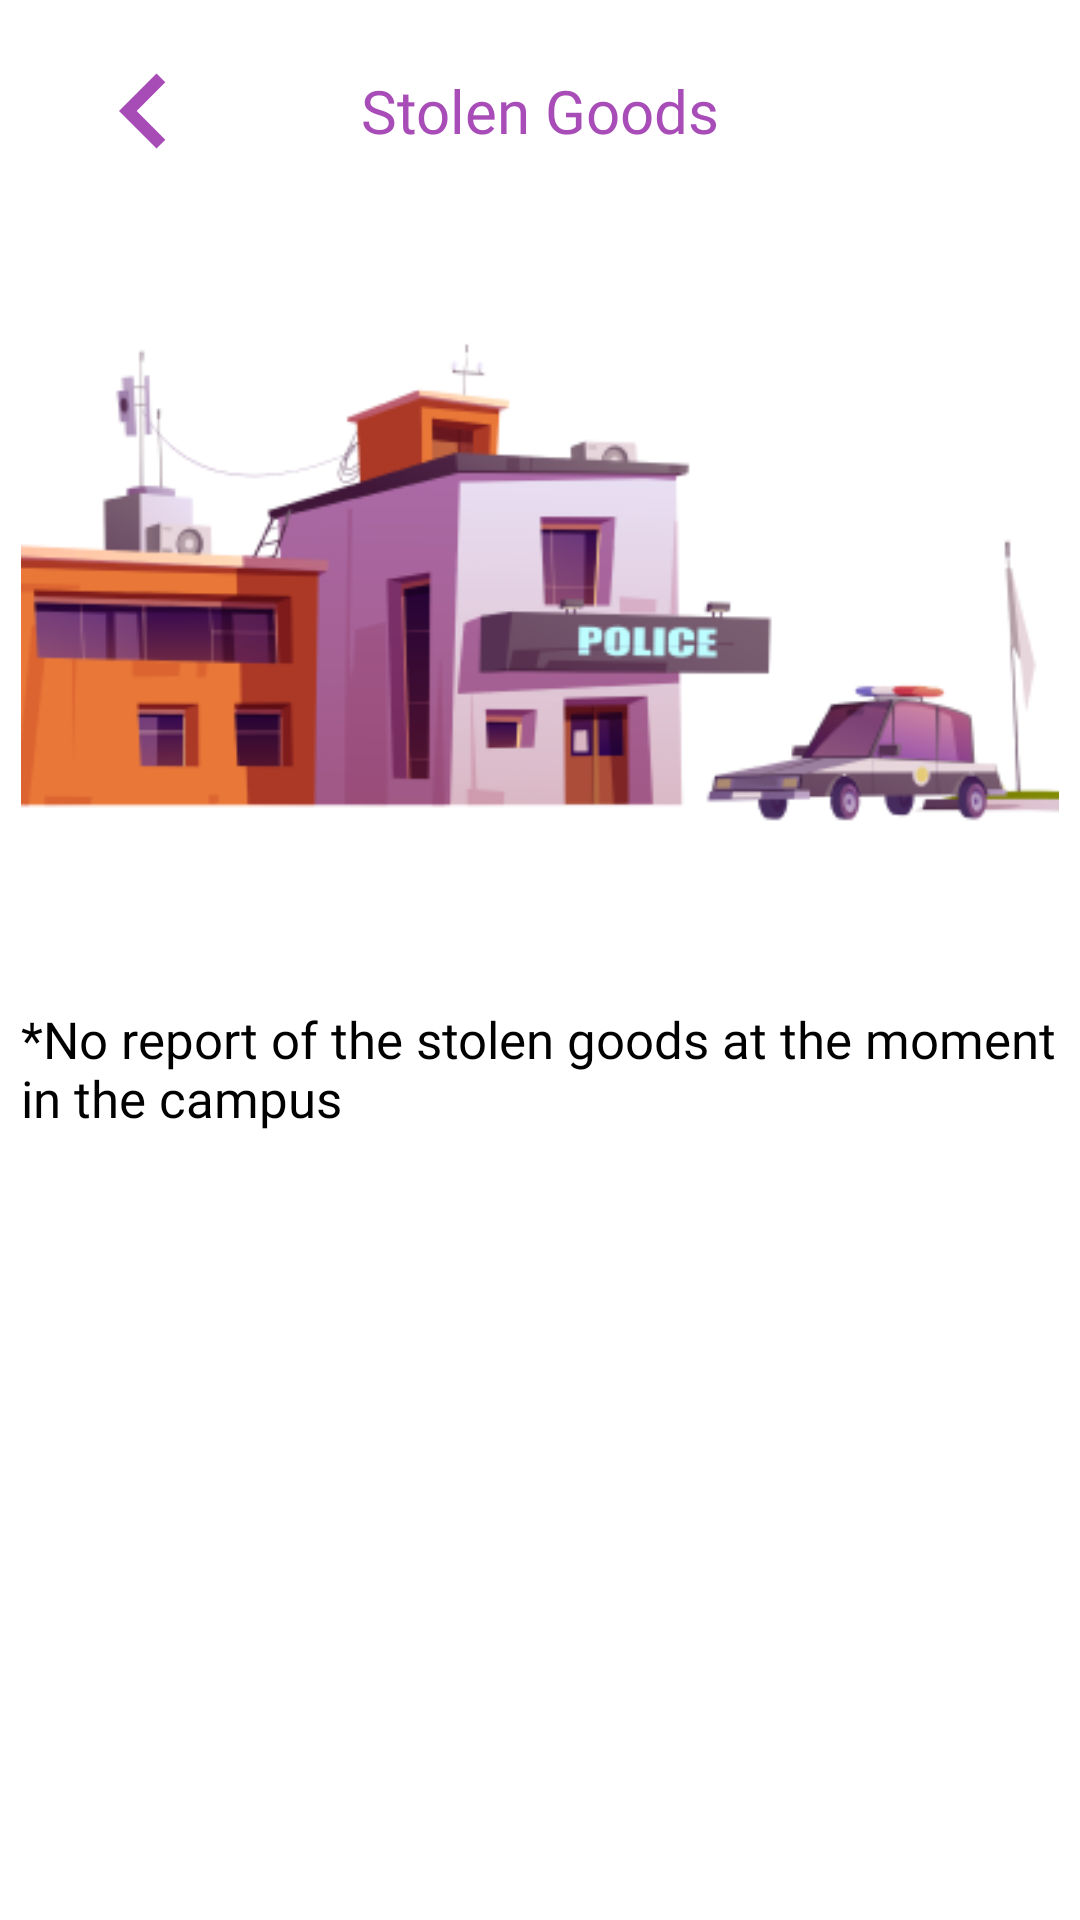

Icons on this 1080px×1920px Android screen, each with the point to tap as point (x, y):
left arrow: point (142, 111)
